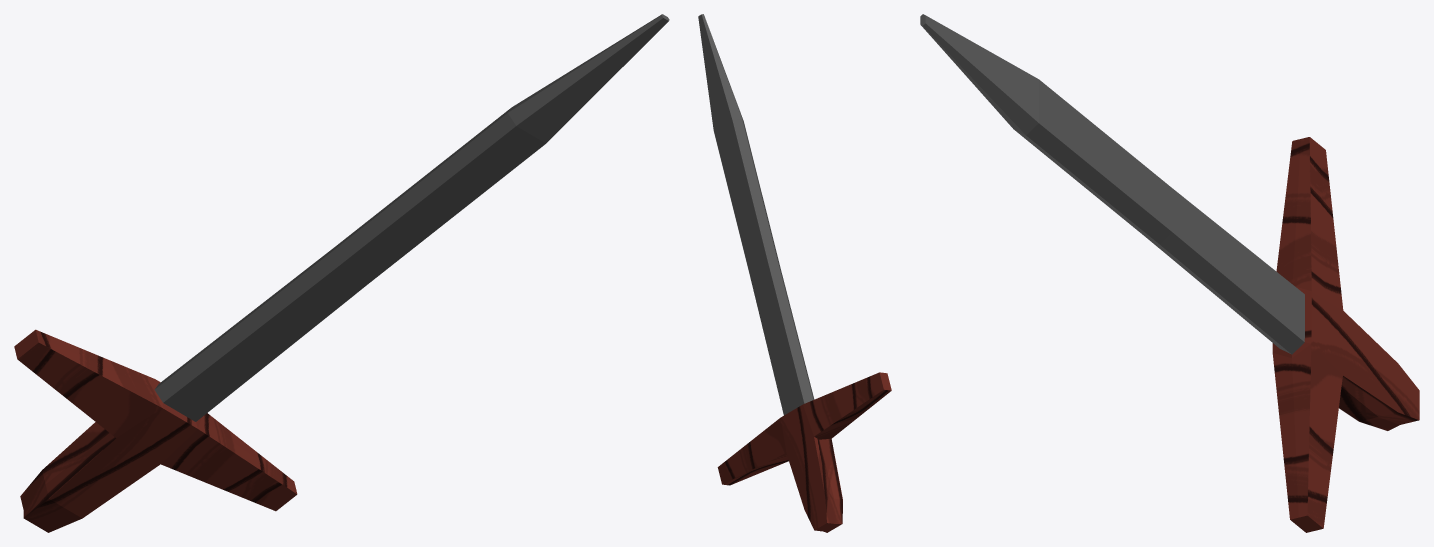
The model's file is sword.glb.
3 views of the same model, side by side, from view 1: azimuth 30°, elevation 25°; view 2: azimuth 150°, elevation 25°; view 3: azimuth 270°, elevation 25° (orthographic). The views are drawn at different scales.
Visible parts, largest first — view 1: sword; view 2: sword; view 3: sword.
Part boxes in pixels (bbox=[...]): sword: bbox=[14, 14, 669, 532]; sword: bbox=[698, 14, 891, 532]; sword: bbox=[920, 14, 1419, 532].
Size of the model in its own units: 1.84 by 2.1 by 1.49.
2 materials, 1 textured.
